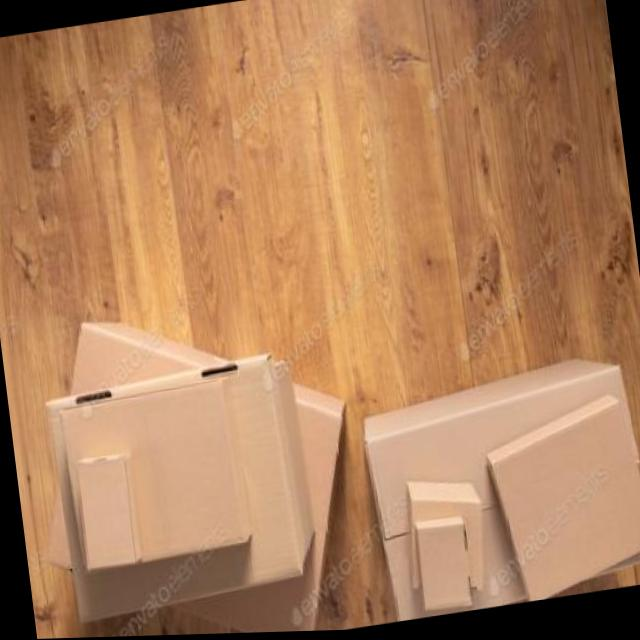box: (16, 269, 377, 640), (39, 343, 341, 639), (352, 343, 640, 626), (50, 371, 272, 586), (478, 385, 640, 609), (390, 466, 501, 622), (67, 439, 154, 583), (408, 510, 482, 621)
